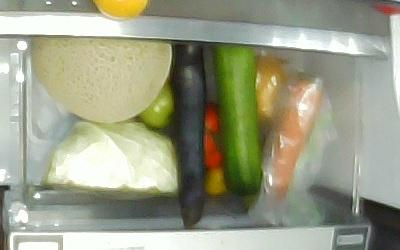cabbage: (43, 120, 178, 198)
carrot_vinyl: (264, 78, 322, 199)
eggplant: (172, 43, 207, 227)
melon: (31, 38, 171, 124)
pear_vinyl: (256, 55, 287, 125)
tomato: (138, 83, 172, 128), (202, 101, 223, 171)
zucchini: (211, 46, 263, 208)
